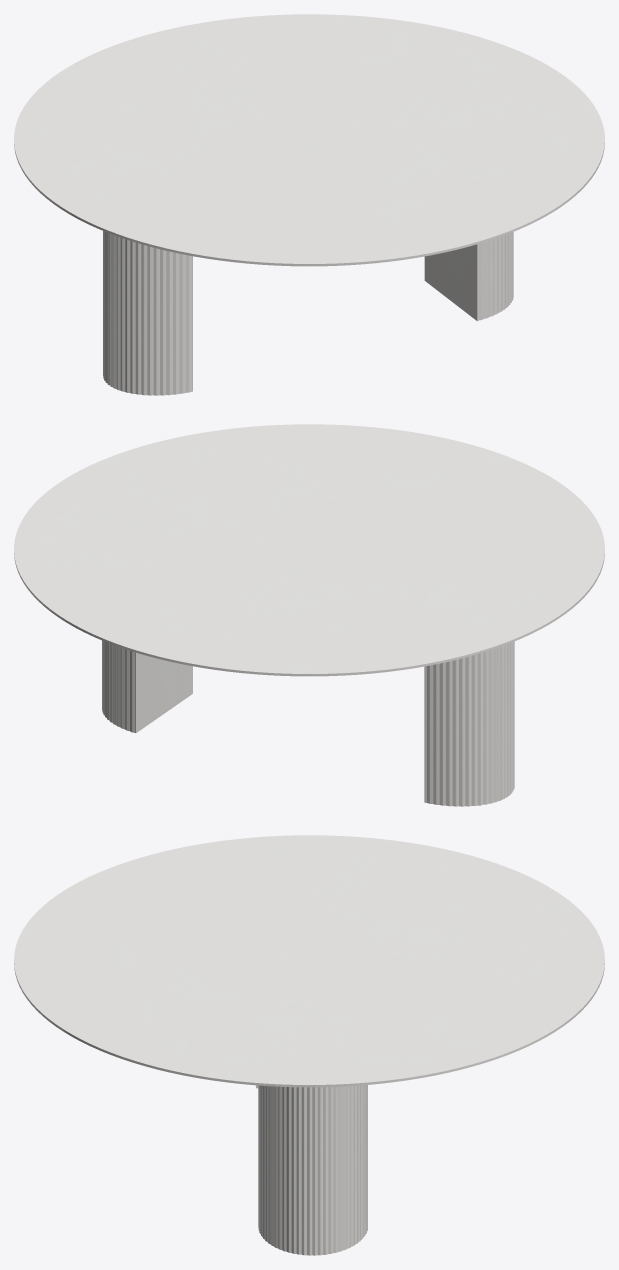
File: purewhite_round_facet_flute.glb
3 renders of one model, top to bottom at view 1: azimuth 30°, elevation 25°; view 2: azimuth 150°, elevation 25°; view 3: azimuth 270°, elevation 25°, orthographic.
Parts seen in each view (by area): view 1: facet_round, flute; view 2: facet_round, flute; view 3: facet_round, flute.
Part boxes in pixels (box(x1,y1,x2,y2)): facet_round: box(14, 14, 604, 266); flute: box(103, 231, 513, 395); facet_round: box(14, 424, 604, 676); flute: box(102, 640, 514, 806); facet_round: box(14, 835, 604, 1087); flute: box(256, 1085, 367, 1255).
Size of the model in its own units: 6.75 by 2.5 by 6.75.
Materials: 1 (1 with a texture image).
